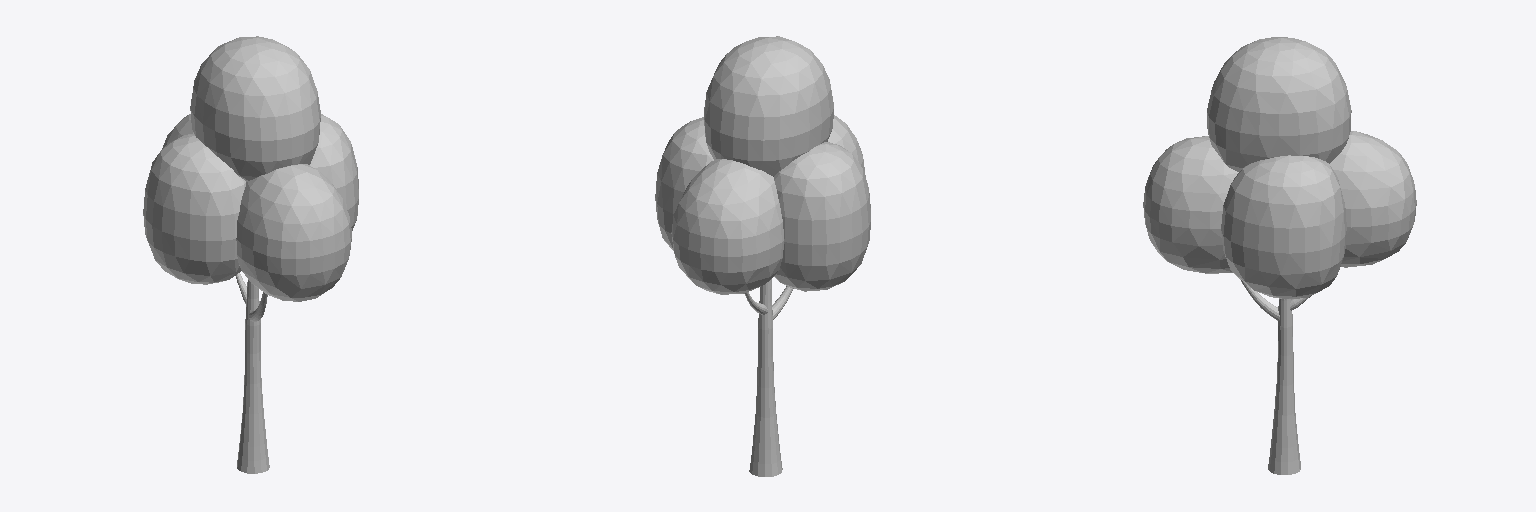
Rendered from Tree2_1.obj.
The picture shows the model from 3 angles: view 1: azimuth 30°, elevation 25°; view 2: azimuth 150°, elevation 25°; view 3: azimuth 270°, elevation 25°; orthographic projection.
Parts seen in each view (by area): view 1: Tree2_1; view 2: Tree2_1; view 3: Tree2_1.
Part boxes in pixels (x1,y1,x2,y2): Tree2_1: (143, 36, 358, 473); Tree2_1: (655, 36, 870, 476); Tree2_1: (1143, 37, 1416, 474).
Size of the model in its own units: 8.03 by 16.43 by 9.58.